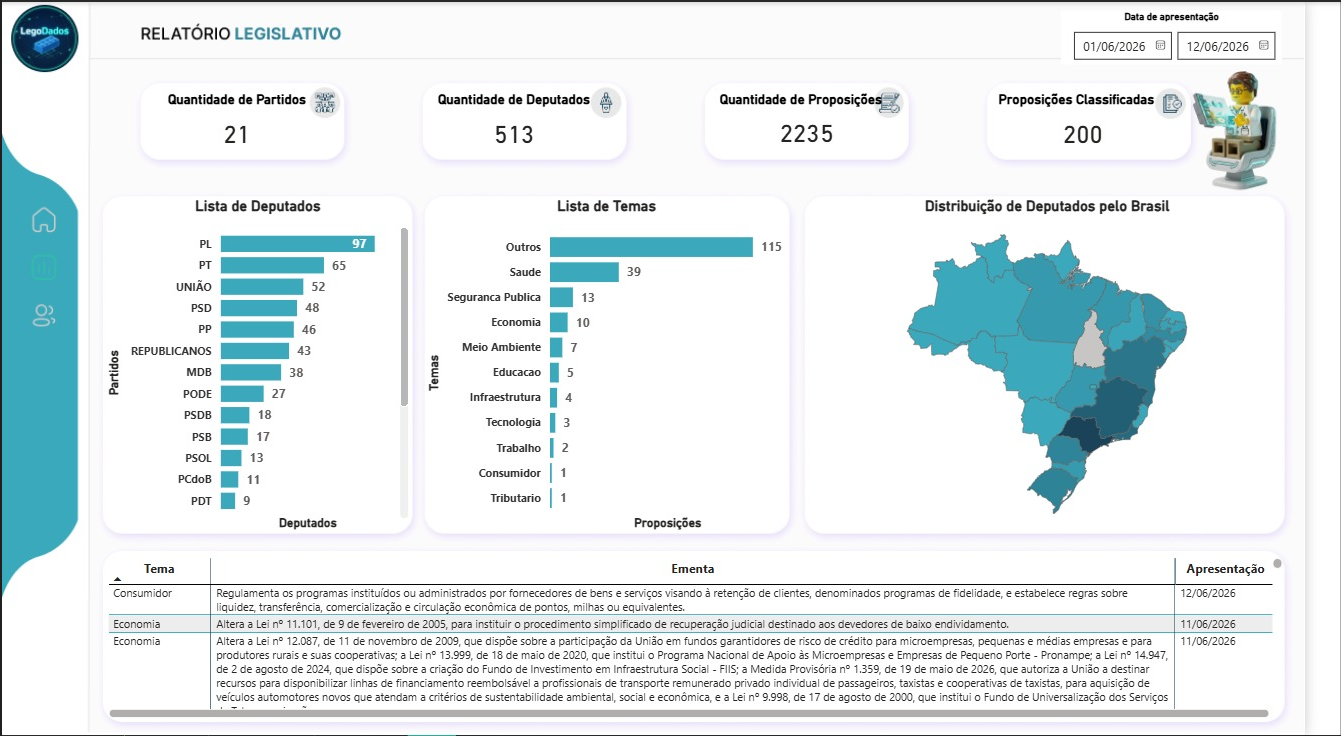

What the dashboard file says about the page in this screenshot:
{"tool":"powerbi","page":{"name":"Resumo","canvas":[1280,720],"ordinal":1},"visuals":[{"type":"card","title":"Quantidade de Deputados","fields":{"Values":["Count(public dim_deputados.id_deputado)"]},"box":[414,88,180,67],"z":0},{"type":"card","title":"Quantidade de Partidos","fields":{"Values":["Count(public dim_partidos.id_partido)"]},"box":[141,88,181,67],"z":1000},{"type":"card","title":"Quantidade de Proposições","fields":{"Values":["Count(public fato_proposicoes.id_proposicao)"]},"box":[700.6,88.3,181.6,66.3],"z":2000},{"type":"card","title":"Proposições Classificadas","fields":{"Values":["Count(public fato_proposicoes.id_proposicao)"]},"box":[974,88,176,67],"z":3000},{"type":"clusteredBarChart","title":"Quantidade de Proposições (Classificadas) por Temática","fields":{"Category":["public fato_proposicoes.tema"],"Y":["Count(public fato_proposicoes.id_proposicao)"]},"box":[413.5,191.4,362,331.3],"z":4000},{"type":"shapeMap","title":"Distribuição de Deputados pelo Brasil","fields":{"Category":["d_Brasil.MAPEAR_CHAVES"],"Value":["CountNonNull(public dim_deputados.id_deputado)"]},"box":[791.4,191.4,471.2,331.3],"z":5000},{"type":"clusteredBarChart","title":"Quantidade de Deputados por Partido","fields":{"Category":["public dim_deputados.sigla_partido"],"Y":["CountNonNull(public dim_deputados.id_deputado)"]},"box":[99.4,191.4,305.5,331.3],"z":6000},{"type":"slicer","title":"Data de apresentação","fields":{"Values":["public fato_proposicoes.data_apresentacao"]},"box":[1027,8.6,235.6,52.8],"z":7000},{"type":"tableEx","title":"Lista de Temas e sua devida Ementa e Data de Apresentação","fields":{"Values":["public fato_proposicoes.tema","public fato_proposicoes.ementa","public fato_proposicoes.data_apresentacao"]},"box":[99.4,541.1,1163.2,166.9],"z":8000},{"type":"actionButton","box":[16,191,51,46],"z":9000},{"type":"actionButton","box":[16,286,51,46],"z":10000}]}

Visuals, with their boxes on the page's 1280x720 design canvas (x1, y1, x2, y2). These are canvas units, not pixel positions in the 1341x736 screenshot, which may show the page scaled, cropped or inside an application window:
"Quantidade de Deputados" card: <region>414, 88, 594, 155</region>
"Quantidade de Partidos" card: <region>141, 88, 322, 155</region>
"Quantidade de Proposições" card: <region>701, 88, 882, 155</region>
"Proposições Classificadas" card: <region>974, 88, 1150, 155</region>
"Quantidade de Proposições (Classificadas) por Temática" clusteredBarChart: <region>414, 191, 776, 523</region>
"Distribuição de Deputados pelo Brasil" shapeMap: <region>791, 191, 1263, 523</region>
"Quantidade de Deputados por Partido" clusteredBarChart: <region>99, 191, 405, 523</region>
"Data de apresentação" slicer: <region>1027, 9, 1263, 61</region>
"Lista de Temas e sua devida Ementa e Data de Apresentação" tableEx: <region>99, 541, 1263, 708</region>
actionButton: <region>16, 191, 67, 237</region>
actionButton: <region>16, 286, 67, 332</region>
